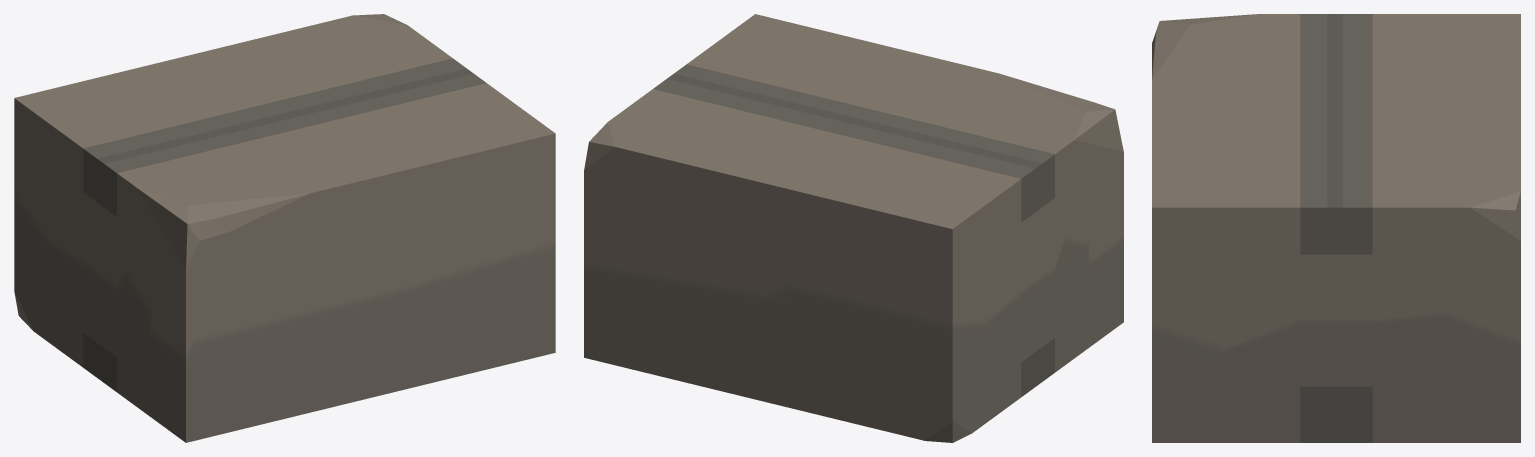
Rendered from SM_Prop_CardboardBox_05_376.obj.
3 views of the same model, side by side, from view 1: azimuth 30°, elevation 25°; view 2: azimuth 150°, elevation 25°; view 3: azimuth 270°, elevation 25° (orthographic). The views are drawn at different scales.
Parts seen in each view (by area): view 1: SM_Prop_CardboardBox_05_0; view 2: SM_Prop_CardboardBox_05_0; view 3: SM_Prop_CardboardBox_05_0.
Boxes of the visible parts, x1,y1,x2,y2 form: SM_Prop_CardboardBox_05_0: [14, 14, 555, 442]; SM_Prop_CardboardBox_05_0: [584, 14, 1123, 442]; SM_Prop_CardboardBox_05_0: [1152, 14, 1520, 442].
Bounding box in the file's own units: 0.6213 × 0.352 × 0.5.
Materials: 1 (1 with a texture image).
